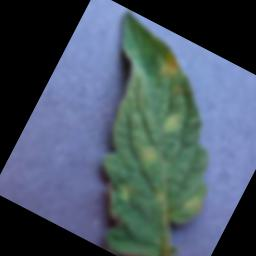Leaf_Mold: (155, 49, 187, 83), (178, 189, 209, 223), (134, 139, 164, 169), (159, 109, 184, 138)
